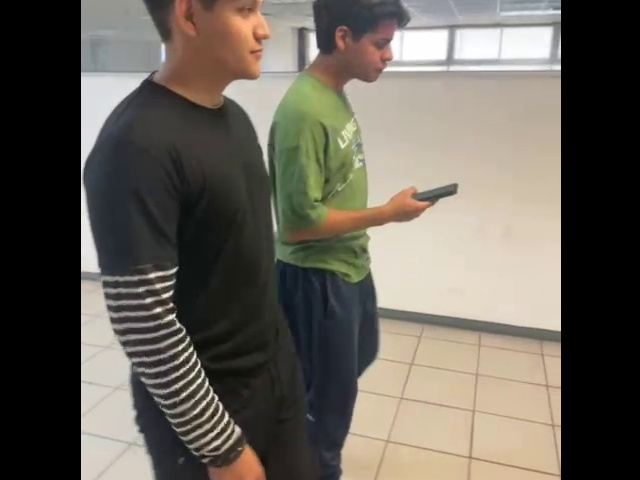mixto2: (413, 179, 463, 207)
